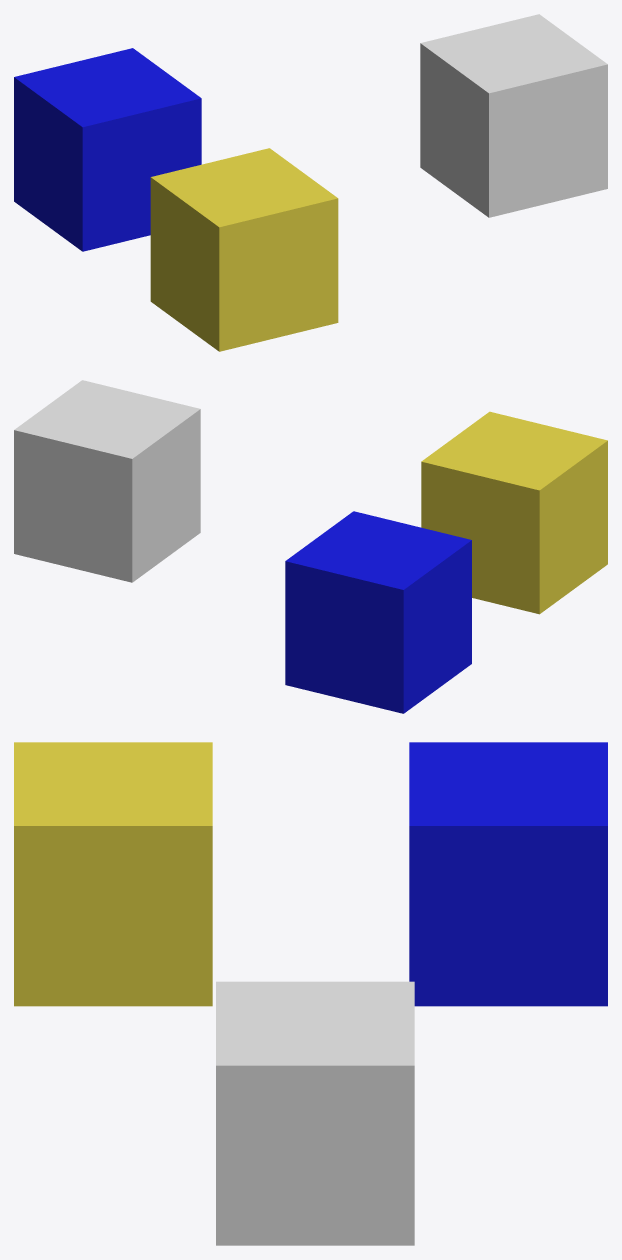
Rendered from teste.gltf.
3 renders of one model, top to bottom at view 1: azimuth 30°, elevation 25°; view 2: azimuth 150°, elevation 25°; view 3: azimuth 270°, elevation 25°, orthographic. The views are drawn at different scales.
Parts seen in each view (by area): view 1: btn2, led, btn1; view 2: led, btn1, btn2; view 3: btn2, led, btn1.
Part boxes in pixels (x1,y1,x2,y2): btn2: [150, 148, 338, 351]; led: [420, 14, 607, 217]; btn1: [14, 48, 201, 251]; led: [14, 380, 200, 582]; btn1: [285, 511, 471, 713]; btn2: [421, 411, 607, 614]; btn2: [14, 742, 212, 1006]; led: [216, 981, 414, 1245]; btn1: [409, 742, 607, 1006].
Bounding box in the file's own units: 7.71 × 2 × 5.98.
